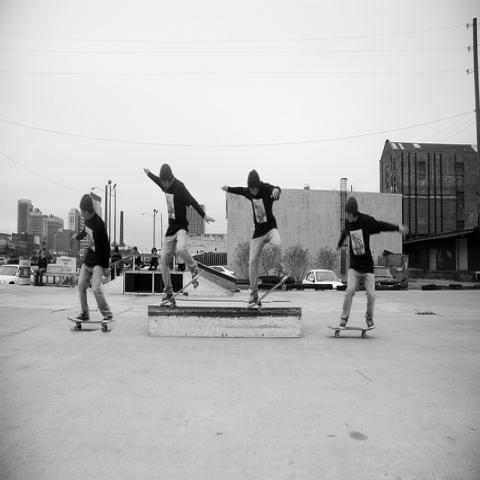car: (302, 270, 345, 291), (0, 264, 35, 286), (375, 266, 401, 291)
